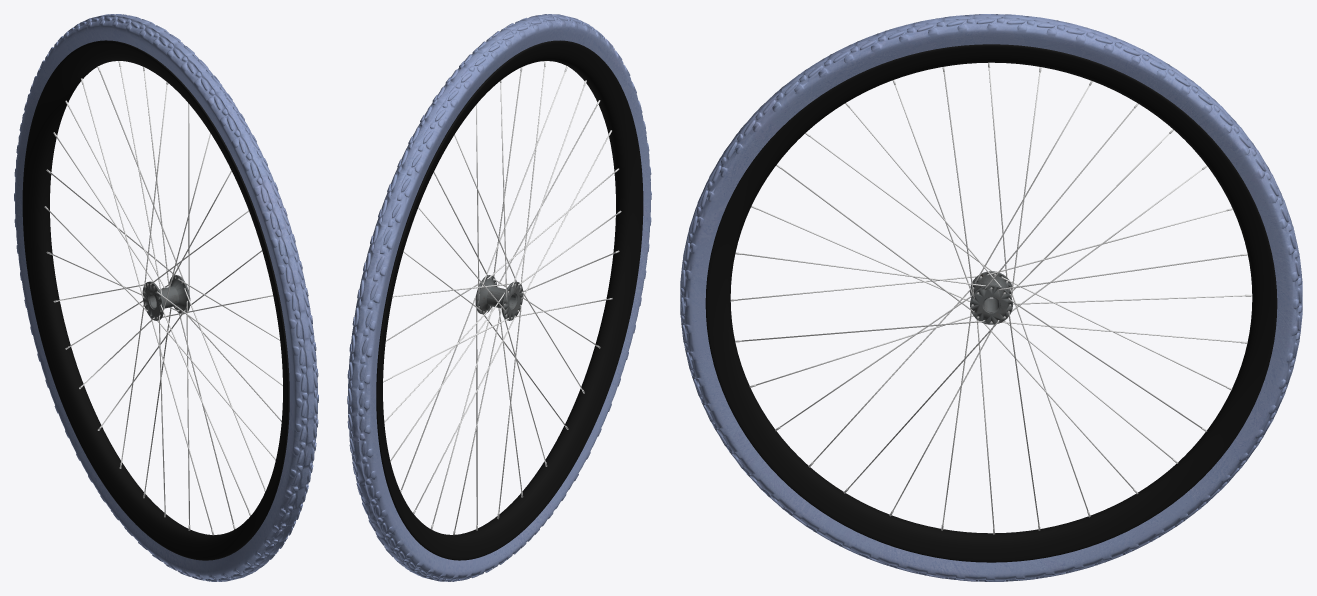
Rendered from bike-wheel.glb.
The picture shows the model from 3 angles, left to right: view 1: azimuth 30°, elevation 25°; view 2: azimuth 150°, elevation 25°; view 3: azimuth 270°, elevation 25°; orthographic projection. The views are drawn at different scales.
Visible parts, largest first — view 1: tire, rim, spokes_left_outer, spokes_left_inner, spokes_right_inner, spokes_right_outer, axle; view 2: tire, rim, spokes_left_outer, spokes_left_inner, spokes_right_inner, spokes_right_outer, axle; view 3: tire, rim, spokes_right_outer, spokes_right_inner, spokes_left_inner, spokes_left_outer, axle.
Boxes of the visible parts, x1,y1,x2,y2 form: tire: [14, 14, 318, 581]; rim: [22, 40, 289, 560]; spokes_left_outer: [47, 84, 282, 511]; spokes_left_inner: [56, 66, 275, 529]; spokes_right_inner: [50, 71, 280, 525]; spokes_right_outer: [50, 71, 281, 523]; axle: [142, 275, 190, 320]; tire: [347, 14, 651, 581]; rim: [376, 40, 643, 560]; spokes_left_outer: [383, 83, 618, 513]; spokes_left_inner: [390, 66, 609, 529]; spokes_right_inner: [384, 71, 615, 523]; spokes_right_outer: [385, 71, 615, 524]; axle: [475, 275, 523, 320]; tire: [680, 14, 1302, 581]; rim: [705, 44, 1277, 562]; spokes_right_outer: [741, 72, 1241, 524]; spokes_right_inner: [742, 72, 1241, 524]; spokes_left_inner: [756, 84, 1226, 511]; spokes_left_outer: [737, 67, 1245, 528]; axle: [970, 271, 1012, 324].
Size of the model in its own units: 0.00604 by 0.1018 by 0.1018.
4 materials, 2 textured.
